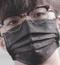with_mask: (1, 2, 60, 65)
